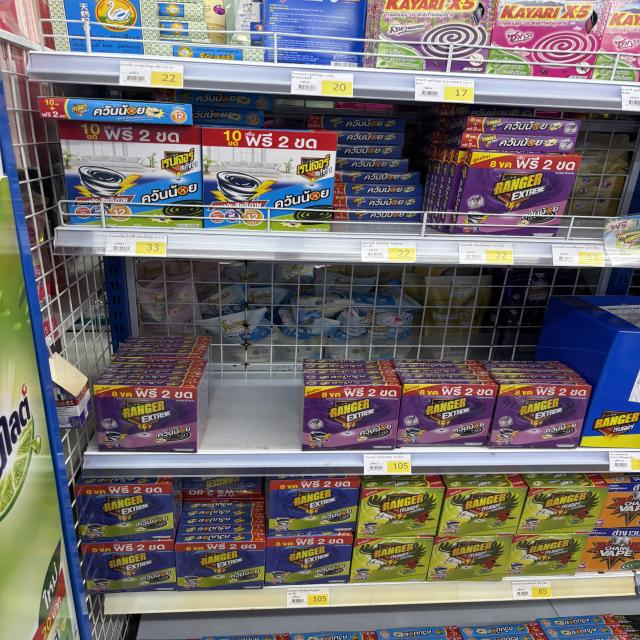empty_shelf: (309, 265, 601, 384), (199, 260, 309, 449), (78, 259, 197, 383), (335, 125, 456, 234), (567, 122, 640, 245)
